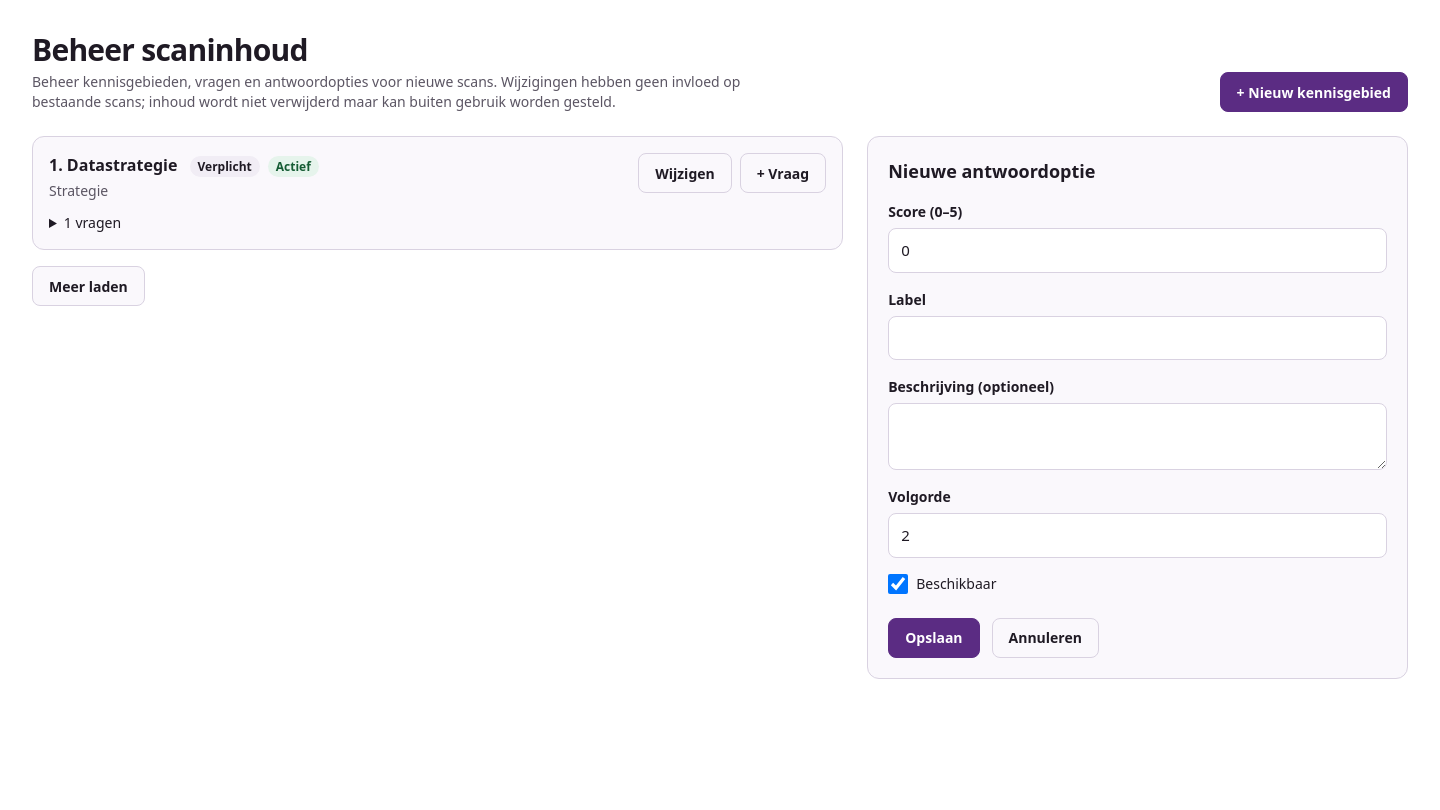
Test: AdminComponent › validates the option score between 0 and 5 and creates the option
Replace the text in the number field with id "option-score" with "6" at (1138, 250), box top-left (888, 228), bottom-right (1387, 272)
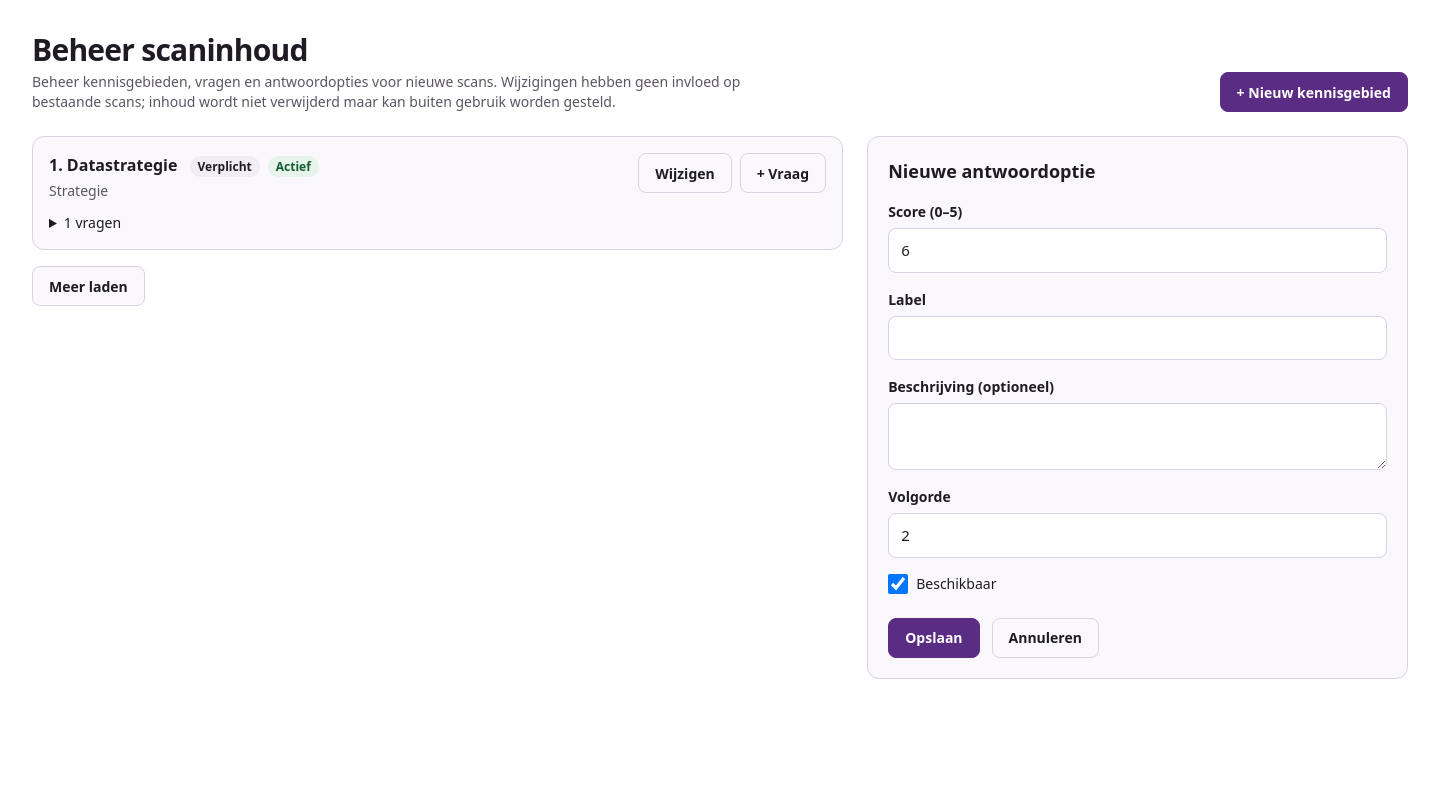
Type "Volledig" into the field with id "option-label" at (1138, 338), box top-left (888, 316), bottom-right (1387, 360)
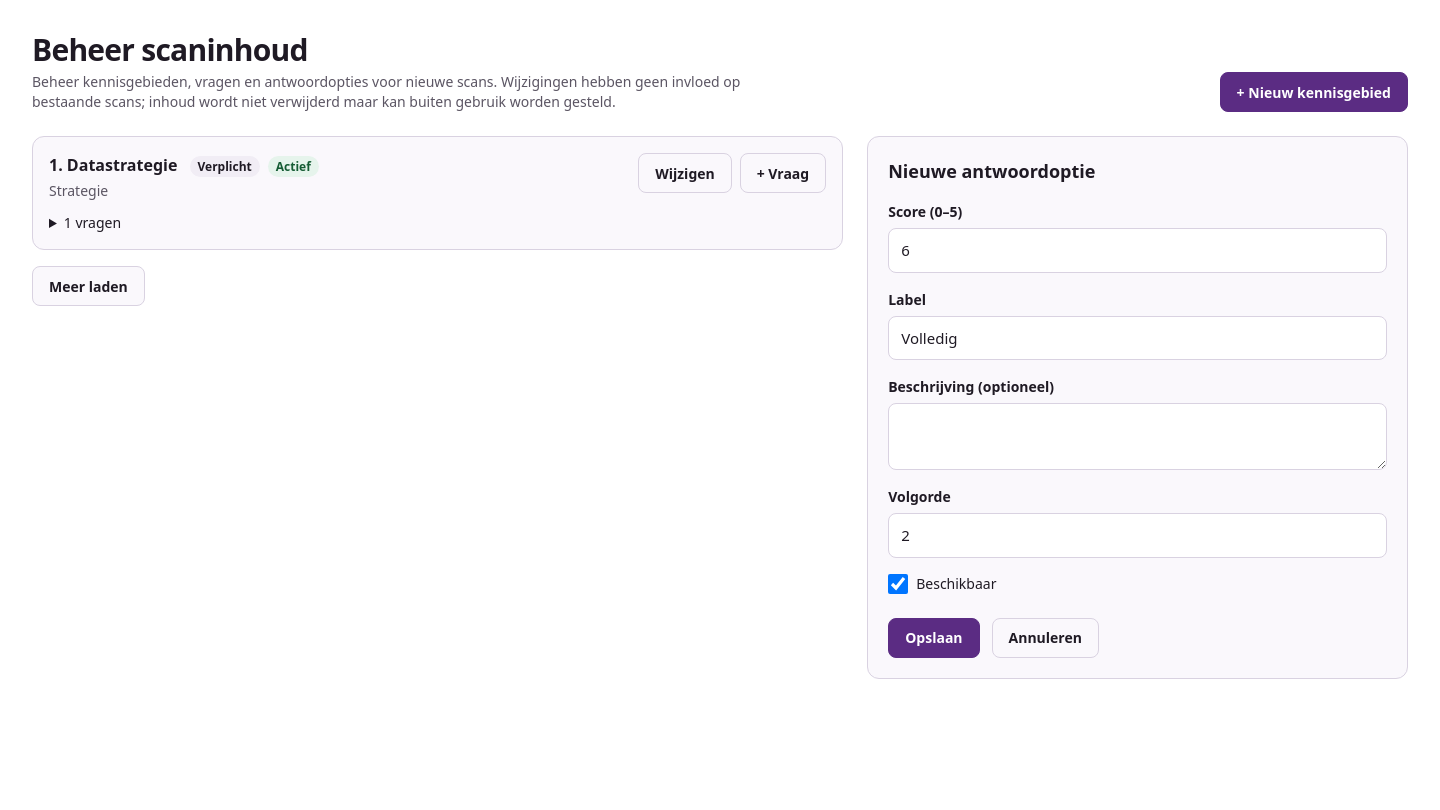
Submit the form, box top-left (888, 201), bottom-right (1387, 658)
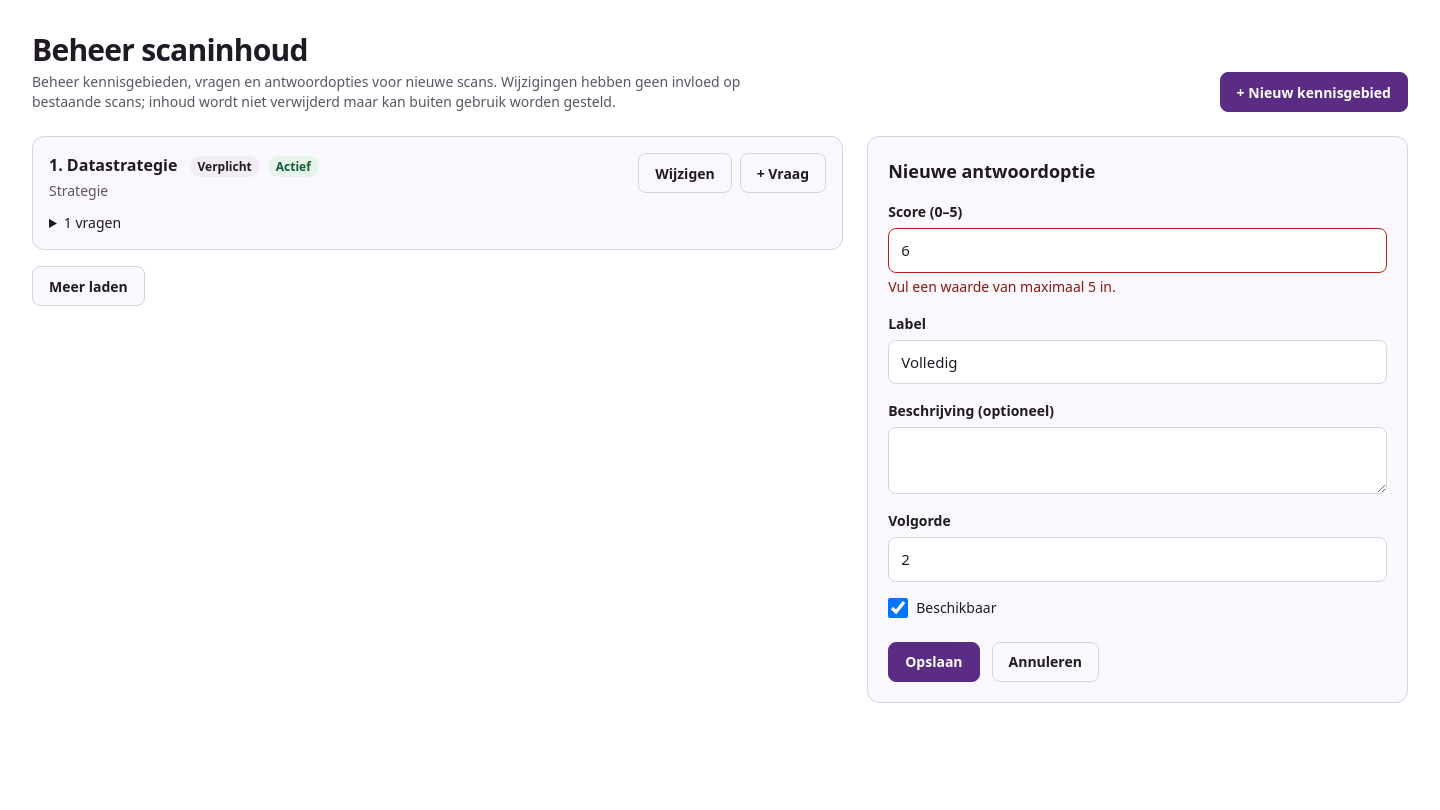
Now the text "Vul een waarde van maximaal 5 in." is shown, box top-left (888, 276), bottom-right (1116, 296)
Replace the text in the number field with id "option-score" with "2.5" at (1138, 250), box top-left (888, 228), bottom-right (1387, 272)
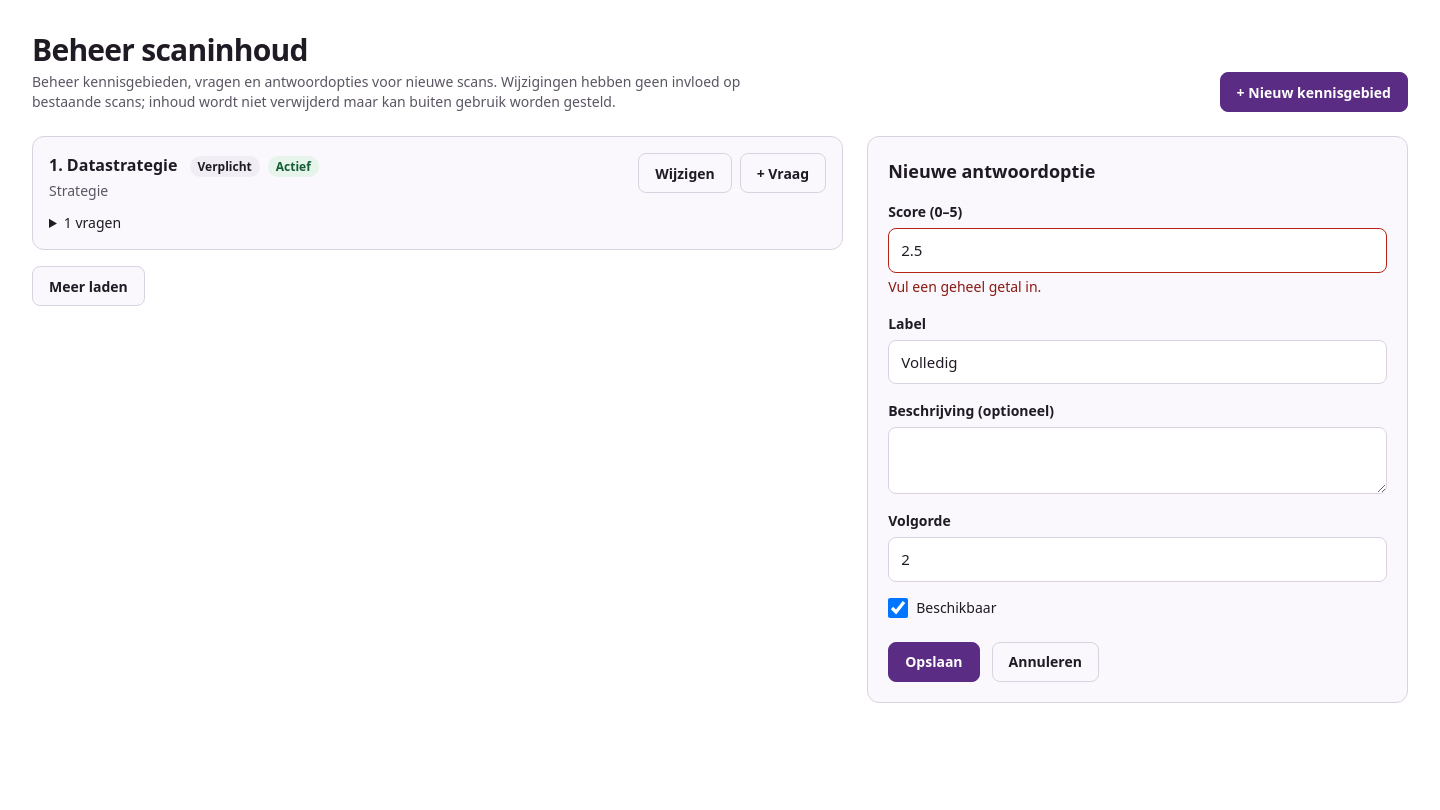
Now the text "Vul een geheel getal in." is shown, box top-left (888, 276), bottom-right (1041, 296)
Replace the text in the number field with id "option-score" with "5" at (1138, 250), box top-left (888, 228), bottom-right (1387, 272)
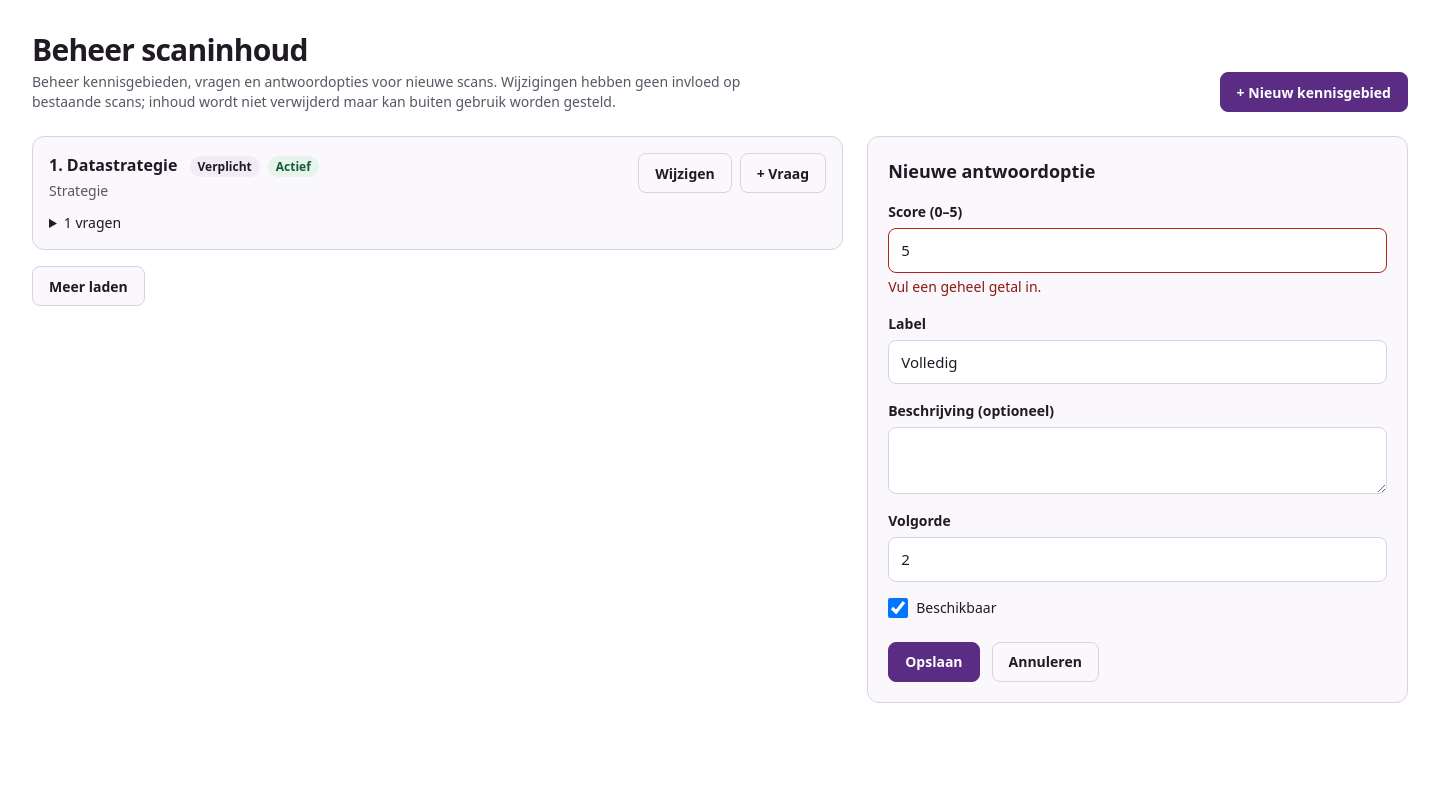
Submit the form, box top-left (888, 201), bottom-right (1387, 682)
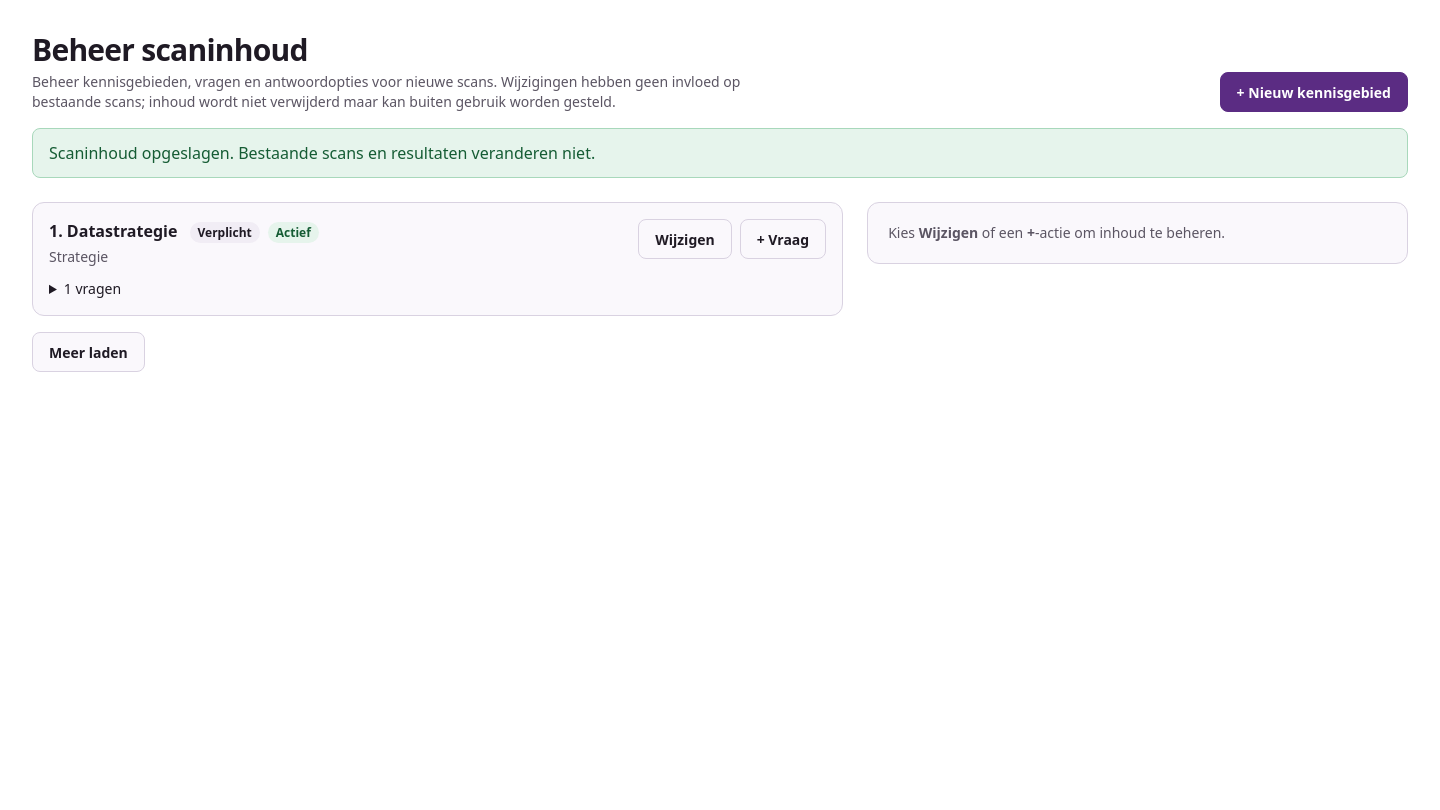
Now the text "Scaninhoud opgeslagen" is shown, box top-left (49, 142), bottom-right (595, 164)
